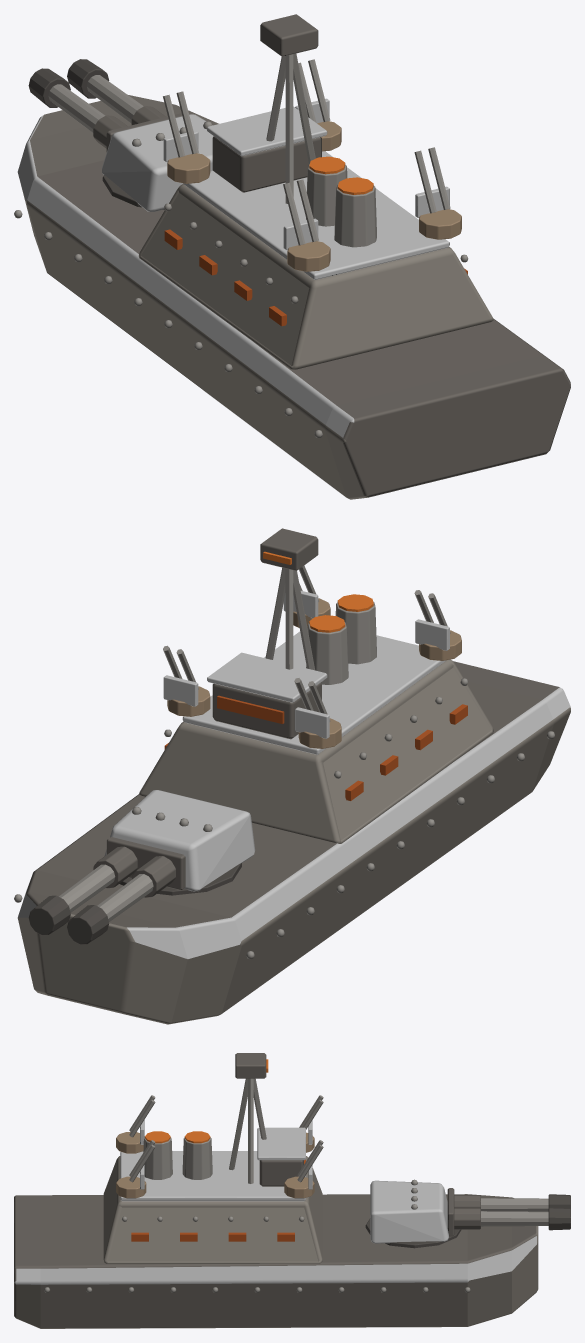
The model's file is crucible_cruiser.glb.
3 views of the same model, one above another, from view 1: azimuth 30°, elevation 25°; view 2: azimuth 150°, elevation 25°; view 3: azimuth 270°, elevation 25° (orthographic). The views are drawn at different scales.
Parts seen in each view (by area): view 1: Body, Turret; view 2: Body, Turret; view 3: Body, Turret.
Part boxes in pixels (x1=…): Body: x1=14, y1=14, x2=570, y2=499; Turret: x1=28, y1=59, x2=213, y2=211; Body: x1=14, y1=528, x2=570, y2=1024; Turret: x1=28, y1=790, x2=255, y2=944; Body: x1=14, y1=1053, x2=538, y2=1328; Turret: x1=365, y1=1179, x2=570, y2=1248.
Size of the model in its own units: 0.876 by 1.19 by 2.52.
